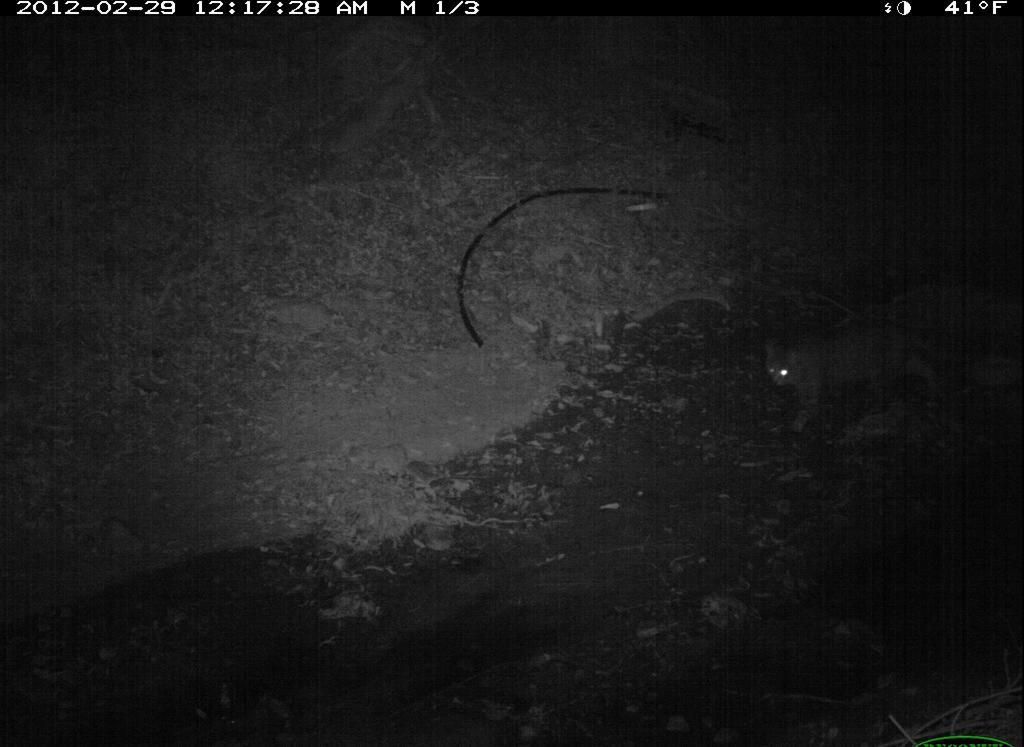cat: (752, 297, 995, 440)
